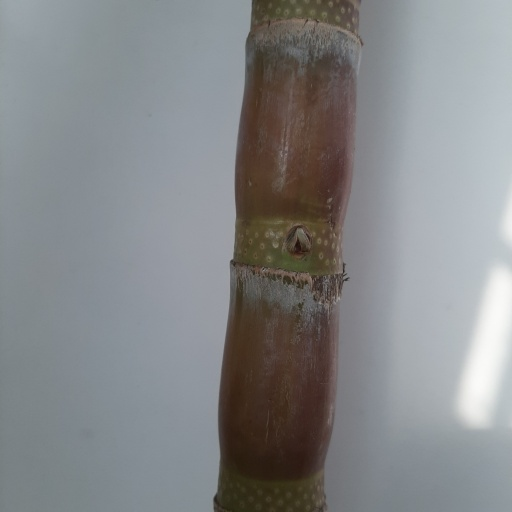Bud: (286, 225, 312, 256)
